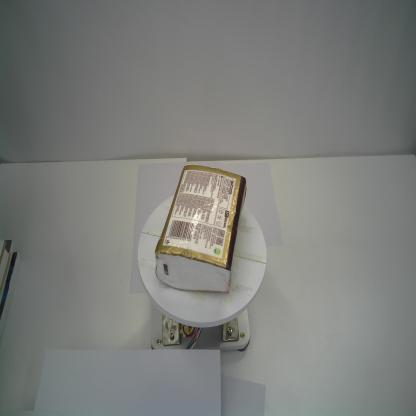Tissue: (155, 164, 247, 293)
